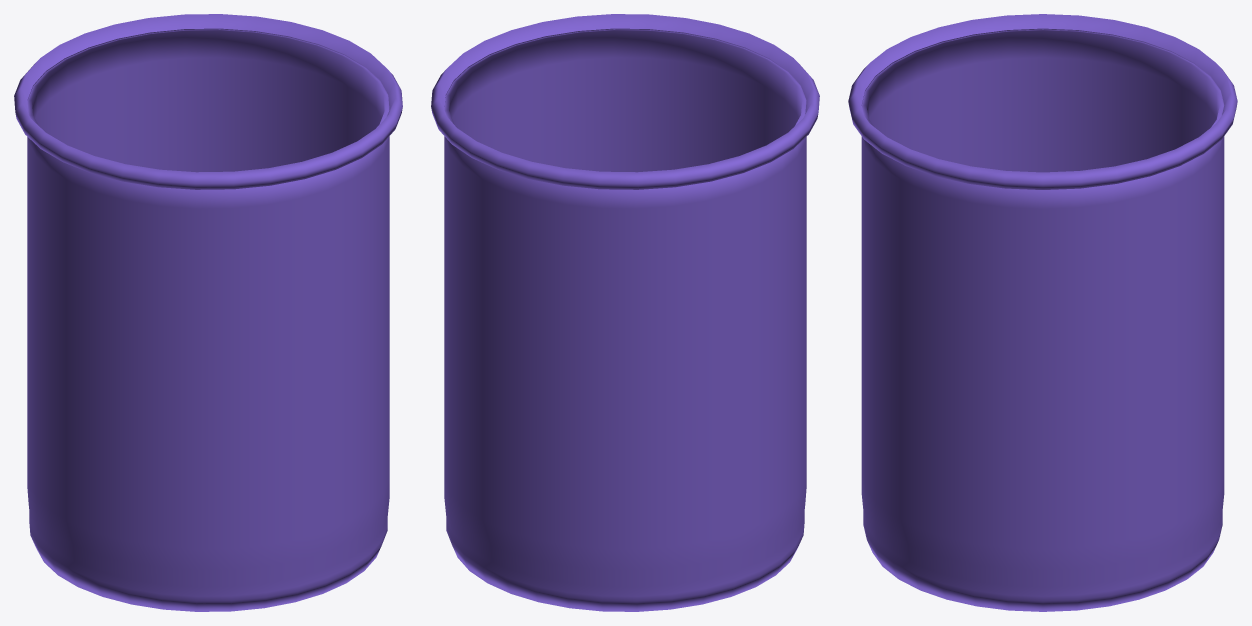
Rendered from dustBox.fbx.
The picture shows the model from 3 angles, left to right: view 1: azimuth 30°, elevation 25°; view 2: azimuth 150°, elevation 25°; view 3: azimuth 270°, elevation 25°; orthographic projection.
Parts seen in each view (by area): view 1: Circle; view 2: Circle; view 3: Circle.
Boxes of the visible parts, box(x1,y1,x2,y2) form: Circle: box(14, 14, 402, 611); Circle: box(431, 14, 819, 611); Circle: box(848, 14, 1237, 611).
Bounding box in the file's own units: 224 × 283 × 224.
